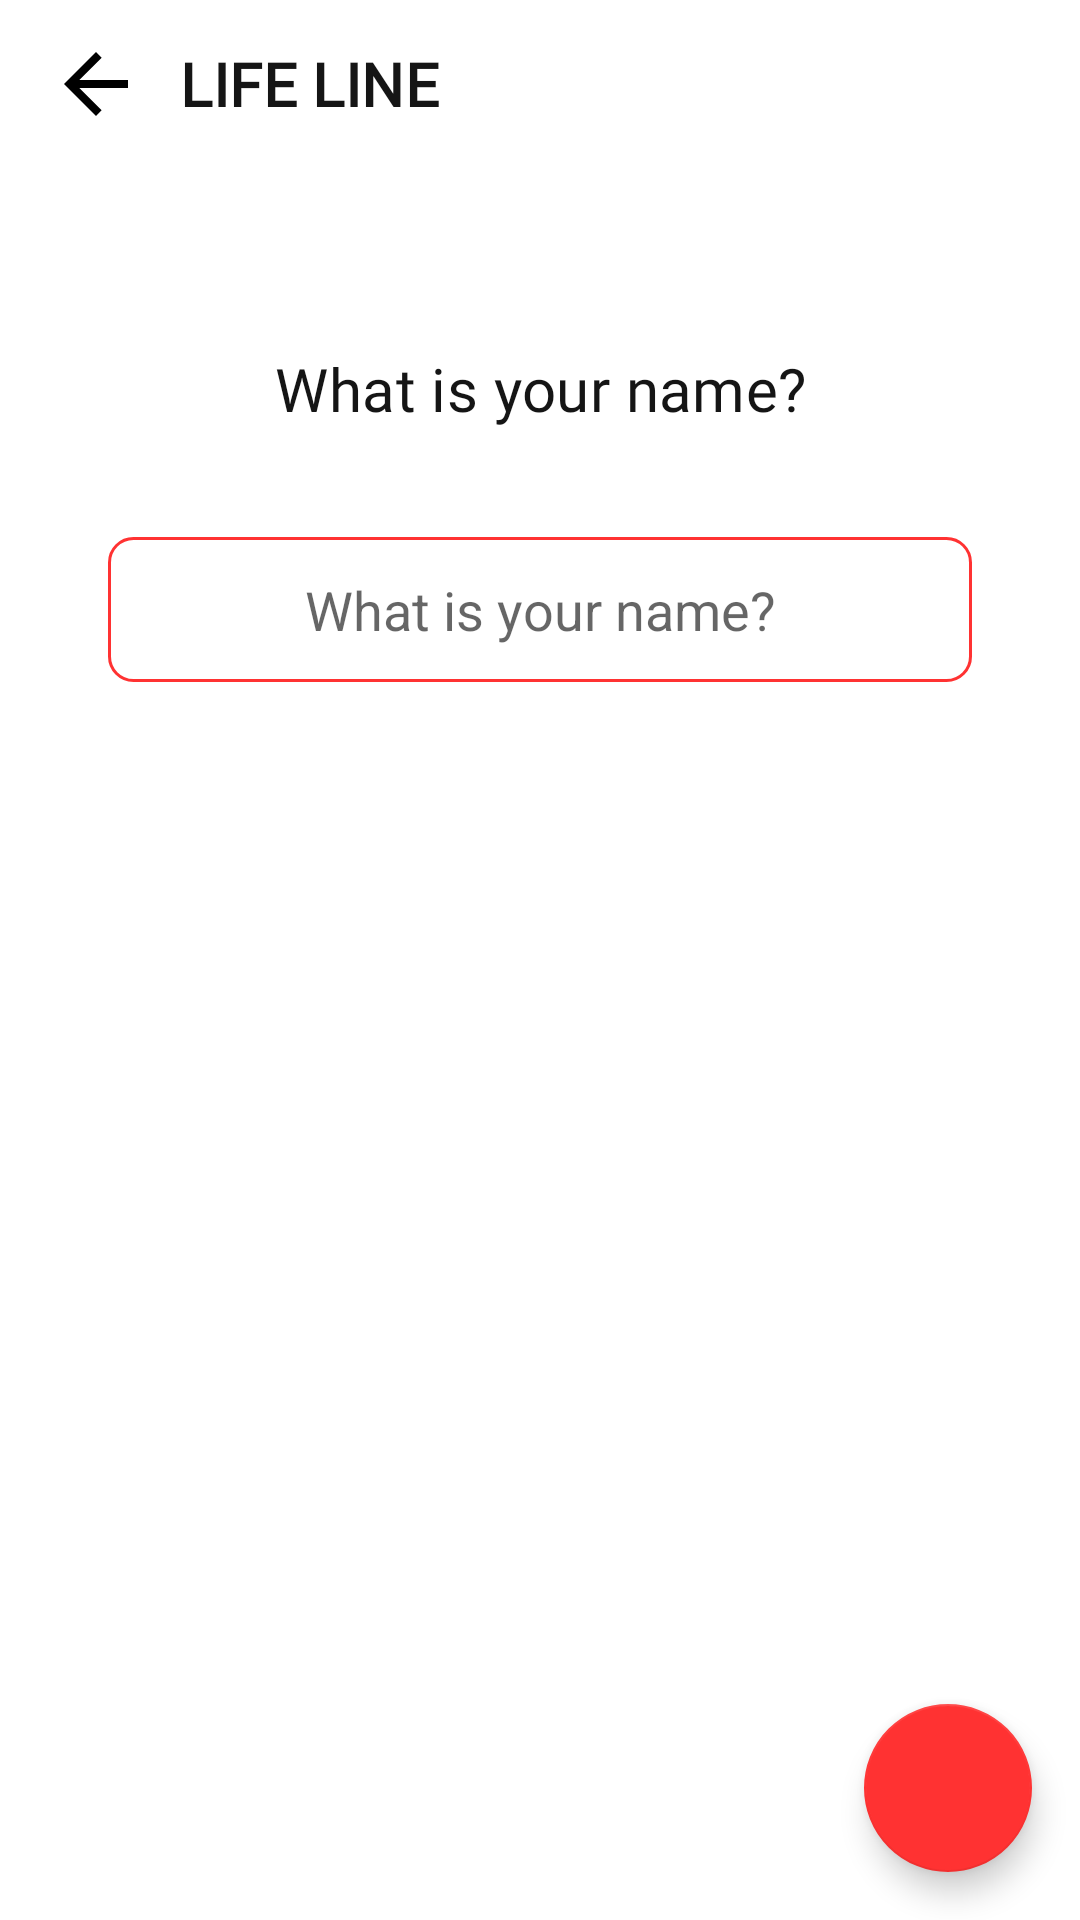

Where to tap for icons on this 1080w x 1920h app screen, as [x,y]:
arrow back: [96,84]
